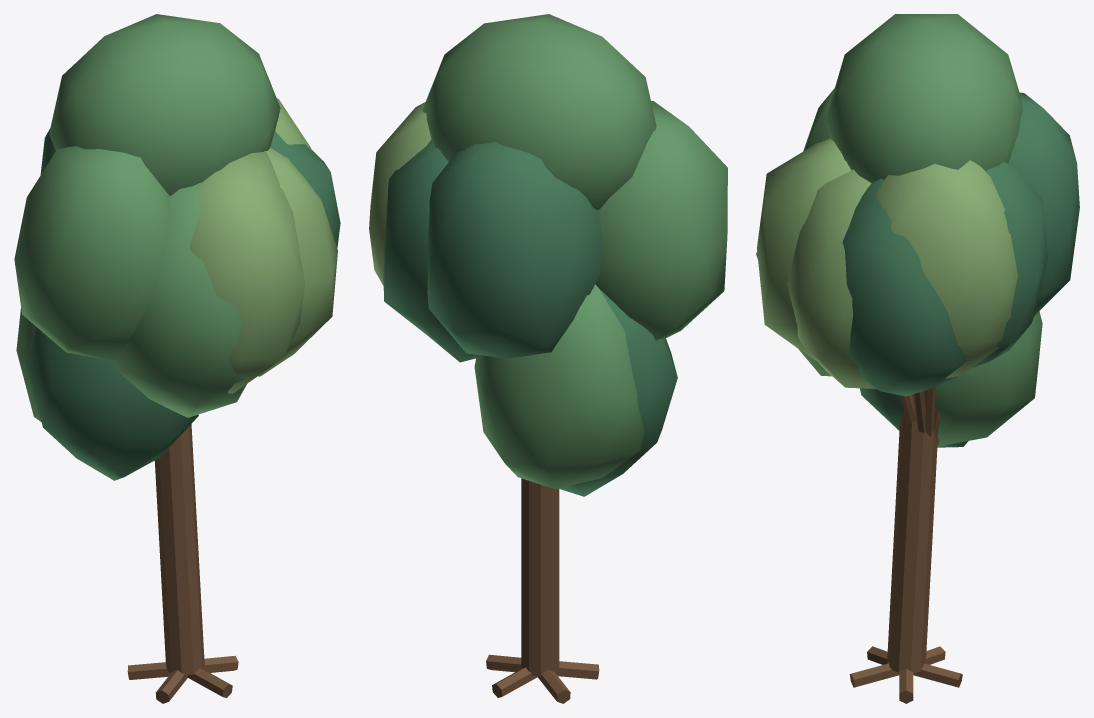
The model's file is leafy_2.fbx.
3 views of the same model, side by side, from view 1: azimuth 30°, elevation 25°; view 2: azimuth 150°, elevation 25°; view 3: azimuth 270°, elevation 25° (orthographic). The views are drawn at different scales.
Parts seen in each view (by area): view 1: leafy_2; view 2: leafy_2; view 3: leafy_2.
Boxes of the visible parts, bbox=[...] form: leafy_2: bbox=[14, 14, 340, 703]; leafy_2: bbox=[369, 14, 727, 703]; leafy_2: bbox=[756, 14, 1079, 703].
Size of the model in its own units: 448 by 893 by 400.
